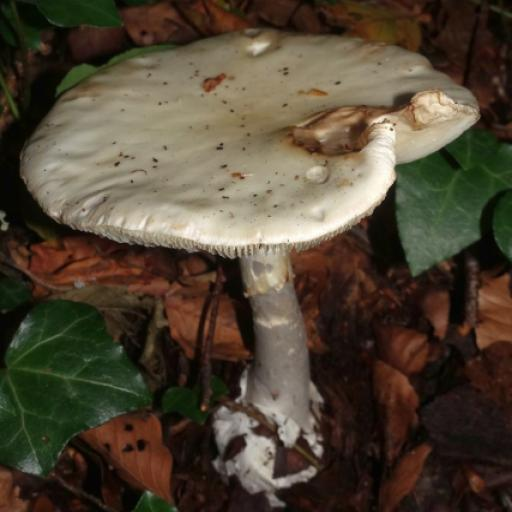mushroom: (15, 8, 481, 279)
